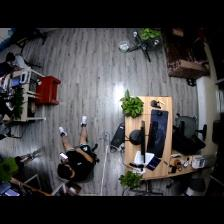normal: (56, 116, 99, 179), (1, 150, 32, 175), (7, 51, 31, 74)
